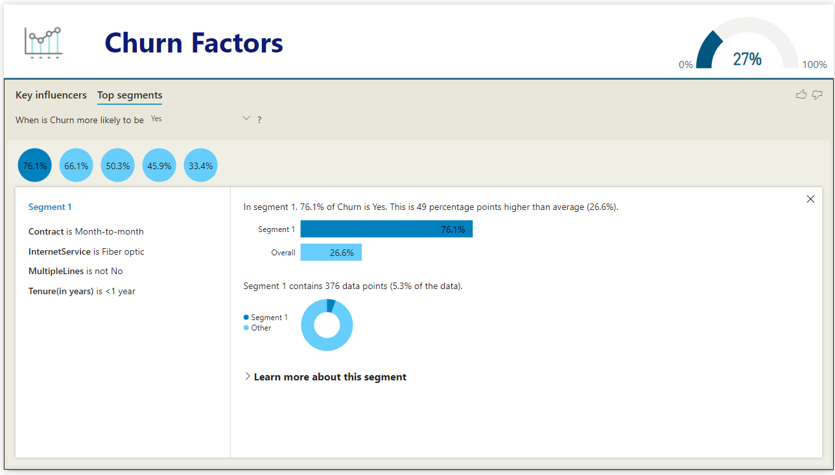

What the dashboard file says about the page in this screenshot:
{"tool":"powerbi","page":{"name":"Churn Factors","canvas":[1280,720],"ordinal":3},"visuals":[{"type":"textbox","box":[150,22.1,658.1,79.1],"z":0},{"type":"keyDriversVisual","fields":{"Target":["Dataset.Churn"],"ExplainBy":["Dataset.Contract","Dataset.Dependents","Dataset.DeviceProtection","Dataset.gender","Dataset.InternetService","Dataset.MonthlyCharges","Dataset.MultipleLines","Dataset.OnlineBackup","Dataset.OnlineSecurity","Dataset.PaperlessBilling","Dataset.Partner","Dataset.PaymentMethod"]},"box":[0,115,1280.1,603.6],"z":0,"group":"g1"},{"type":"actionButton","box":[23.3,22.1,75.6,73.3],"z":1000},{"type":"gauge","fields":{"Y":["Churned Customer Data.%churn"]},"box":[1031.4,3.5,248.8,115.1],"z":2000},{"type":"shape","box":[0,91.9,1280.2,47],"z":2000,"group":"g1"},{"type":"group","id":"g1","title":"Group 1","box":[0,91.9,1280.2,626.7],"z":3000}]}

Visuals, with their boxes in screenshot pixels (x1, y1, x2, y2), scaled from the page's 1280x720 canvas onto the 835x475 screenshot:
textbox: region(98, 15, 527, 67)
keyDriversVisual - Dataset.Churn x Dataset.Contract: region(0, 76, 834, 474)
actionButton: region(15, 15, 65, 63)
gauge - Churned Customer Data.%churn: region(673, 2, 834, 78)
shape: region(0, 61, 834, 92)
"Group 1" group: region(0, 61, 834, 474)
